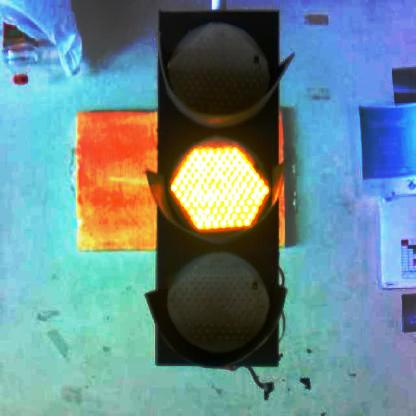Traffic Light -Yellow-: (157, 11, 279, 367)
